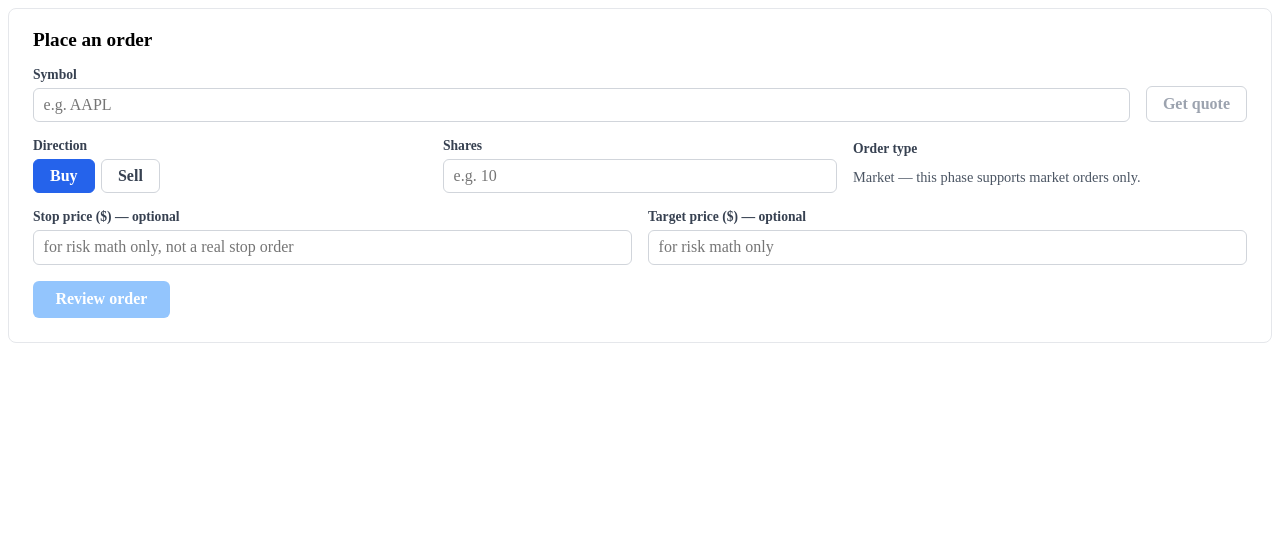
Scenario: OrderForm stop-price validation (buy only) › rejects a stop of 0 with the expected message
This screenshot has width=1280, height=559.
Type "AAPL" into the field labelled "Symbol". click: (581, 105)
box: [33,88,1130,122]
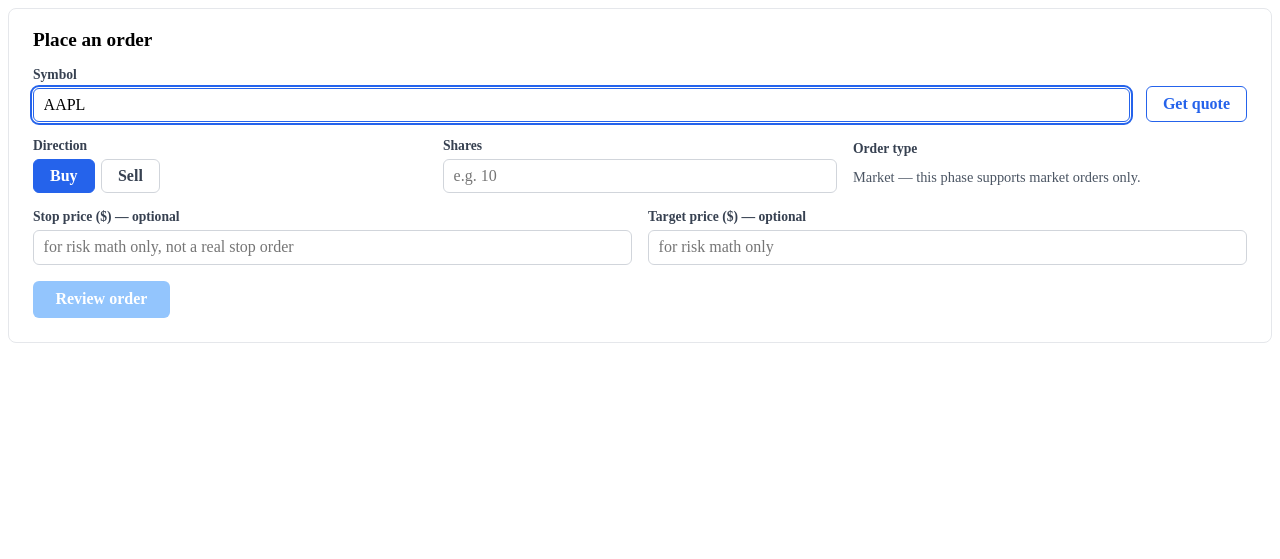
Click the button "Get quote". click: (1196, 104)
box: [1146,86,1247,122]
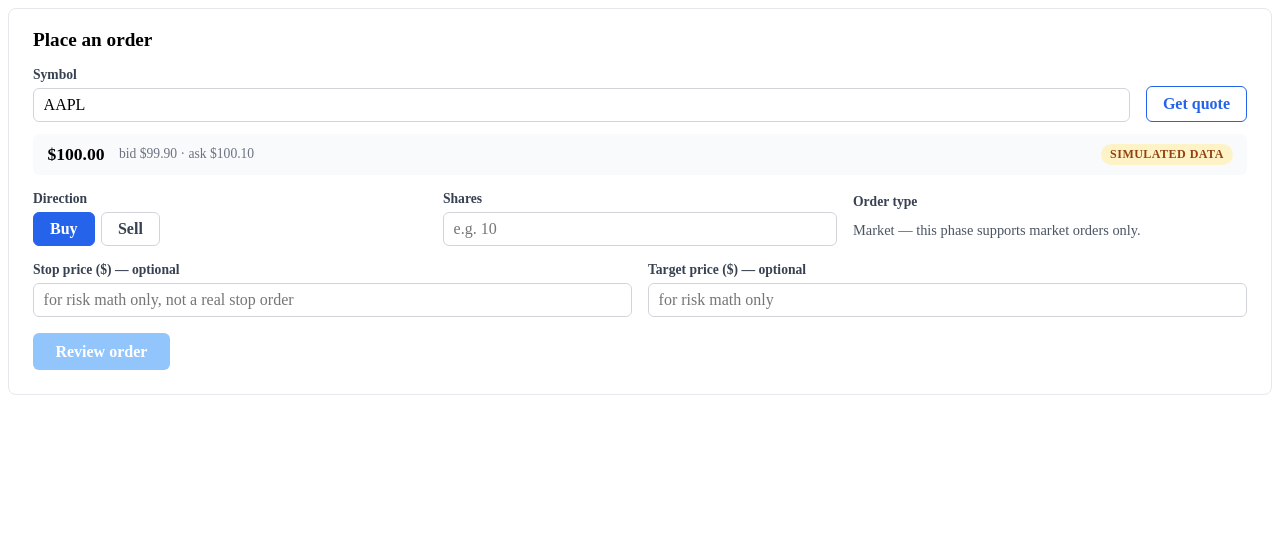
Expected: the text "bid $99.90 · ask $100.10" is shown, [119,146,254,162]
Type "10" into the field labelled "Shares". click: (640, 229)
box: [443,212,837,246]
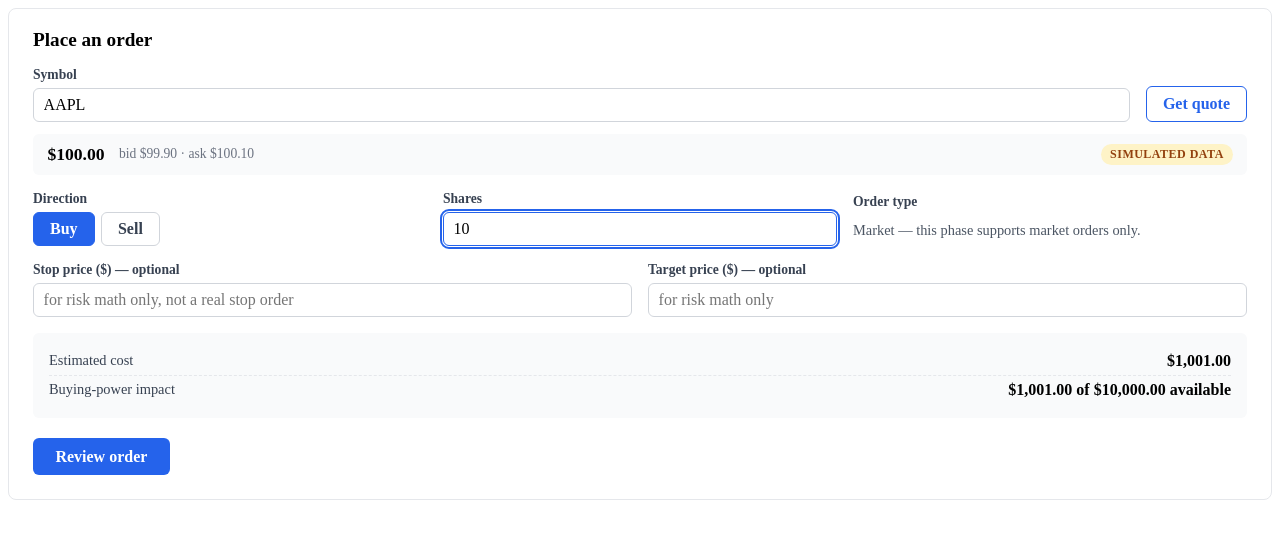
Type "0" into the field labelled "Stop price ($) — optional". click: (332, 300)
box: [33,283,632,317]
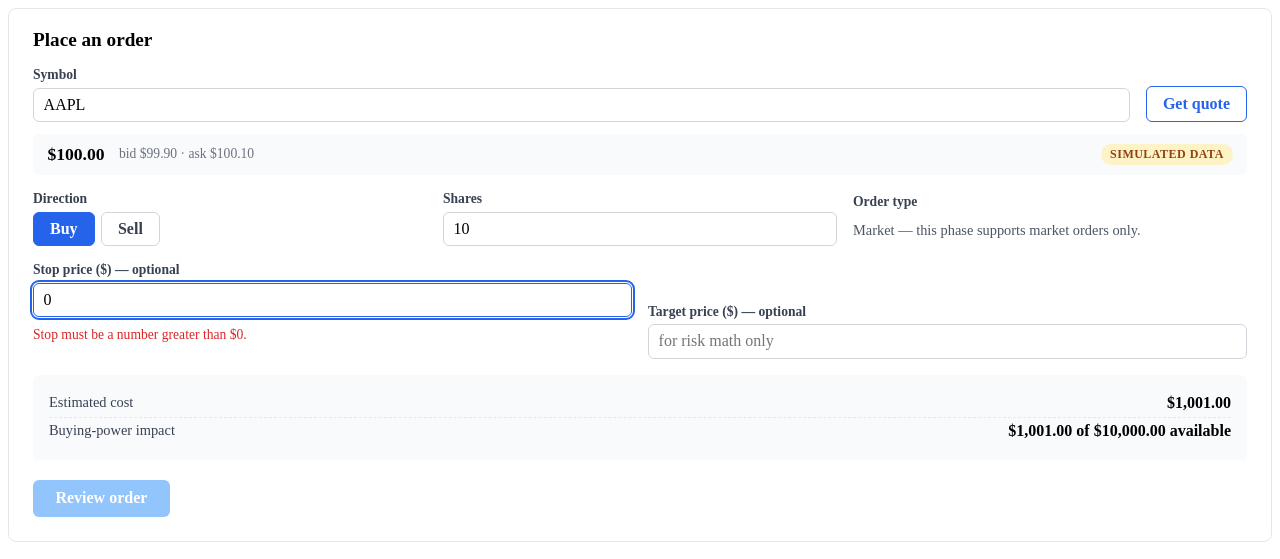
Expected: the text "Stop must be a number greater than $0." is shown, [33,327,247,342]
Expected: the button "Review order" is disabled, [33,480,170,517]
